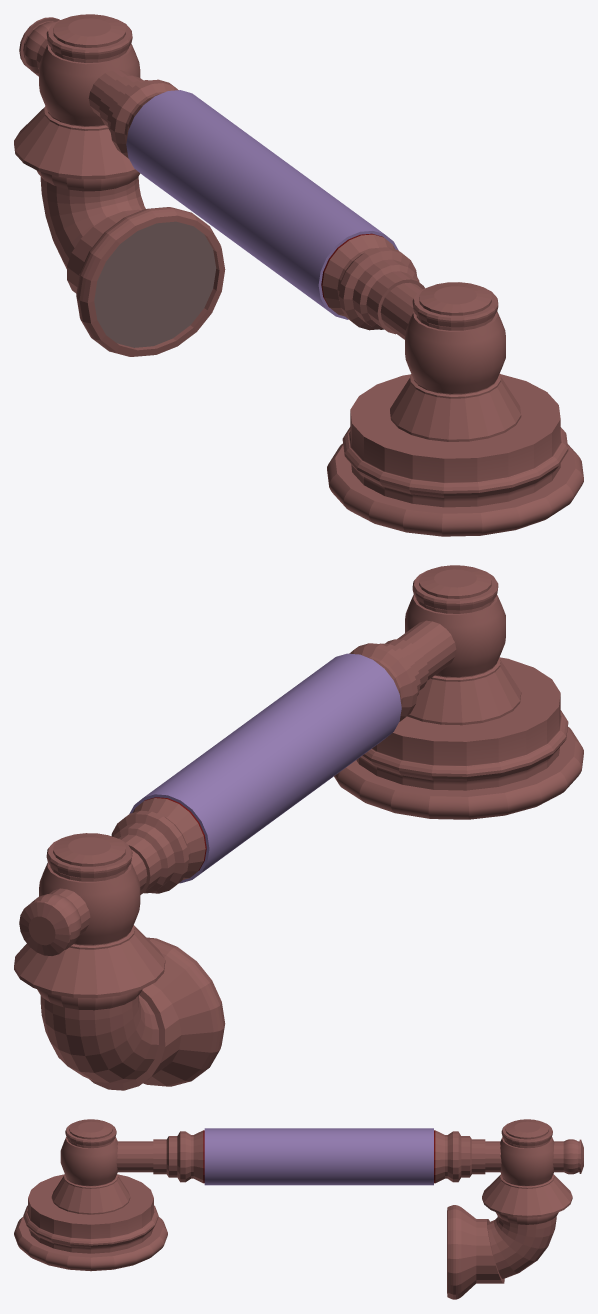
Rendered from Phone_02.fbx.
The picture shows the model from 3 angles, top to bottom: view 1: azimuth 30°, elevation 25°; view 2: azimuth 150°, elevation 25°; view 3: azimuth 270°, elevation 25°; orthographic projection. The views are drawn at different scales.
Visible parts, largest first — view 1: pCylinder7; view 2: pCylinder7; view 3: pCylinder7.
Part boxes in pixels (x1,y1,x2,y2): pCylinder7: [14, 14, 583, 536]; pCylinder7: [14, 565, 583, 1090]; pCylinder7: [14, 1119, 583, 1299].
Bounding box in the file's own units: 4.59 × 5.53 × 16.98.
